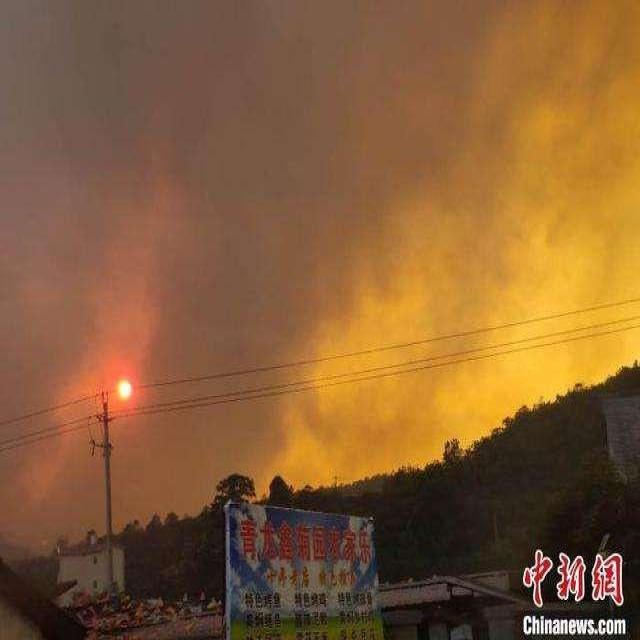other: (109, 368, 133, 407)
smoke: (172, 108, 342, 476), (3, 25, 158, 361)
